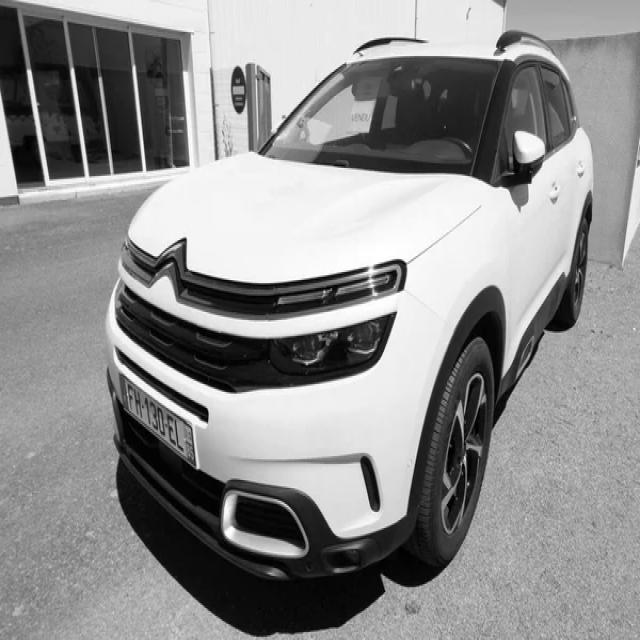Car: (106, 34, 594, 580)
